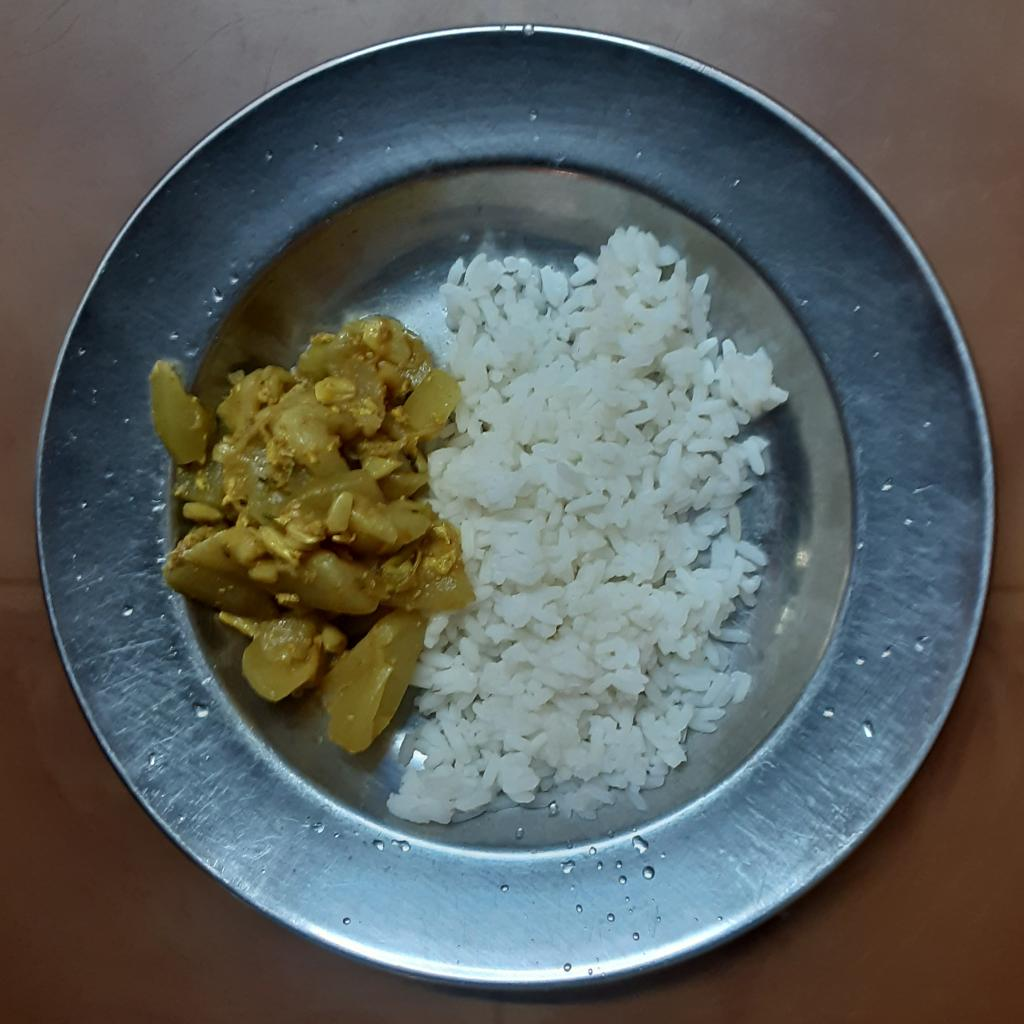lau: (138, 316, 479, 758)
rice: (386, 216, 791, 829)
